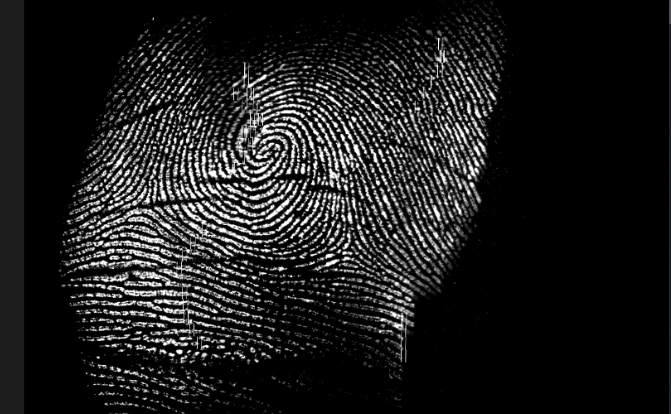deltas: (332, 221, 371, 267), (128, 177, 166, 223)
nucleo: (244, 124, 290, 167)
